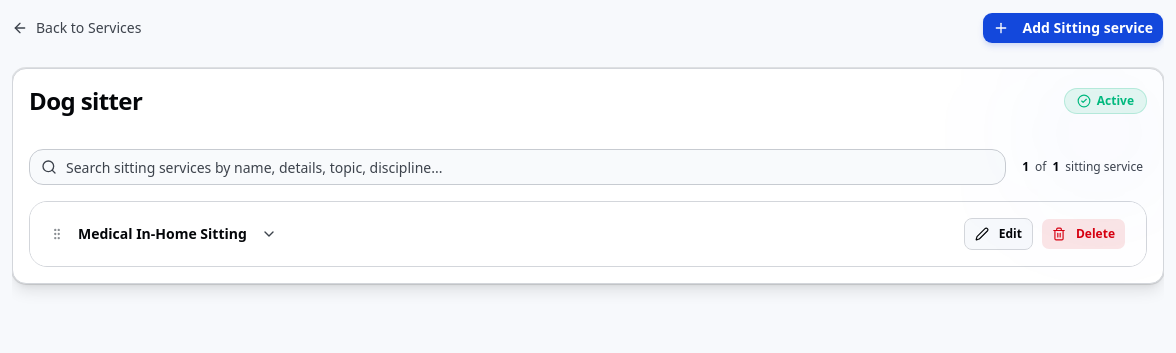
it: DashboardServiceDetail Component › should display Vet Training, Emergency Vet Transport, and Up to 2 Pets badges for dog sitting offerings
The width and height of the screenshot is (1176, 353).
Click the button named "Expand".
click(269, 234)  # box [257,222,281,246]
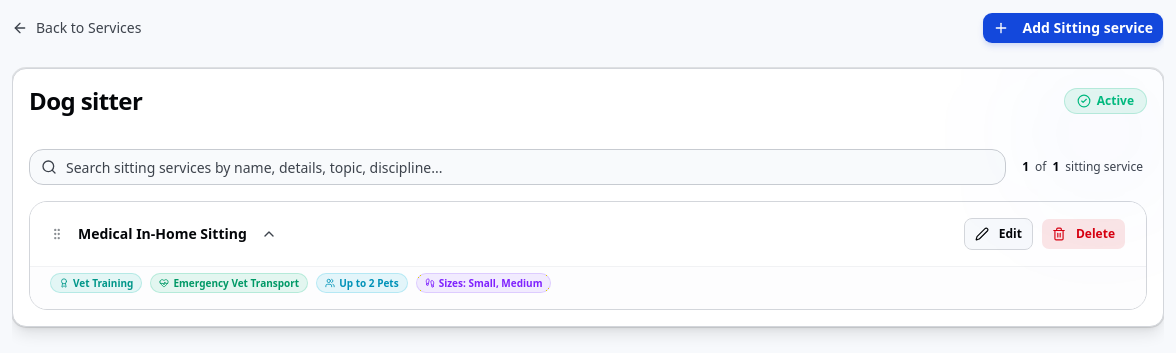
Now the text "Vet Training" is shown, box [50,273,142,293]
Now the text "Emergency Vet Transport" is shown, box [150,273,308,293]
Now the text "Up to 2 Pets" is shown, box [316,273,408,293]
